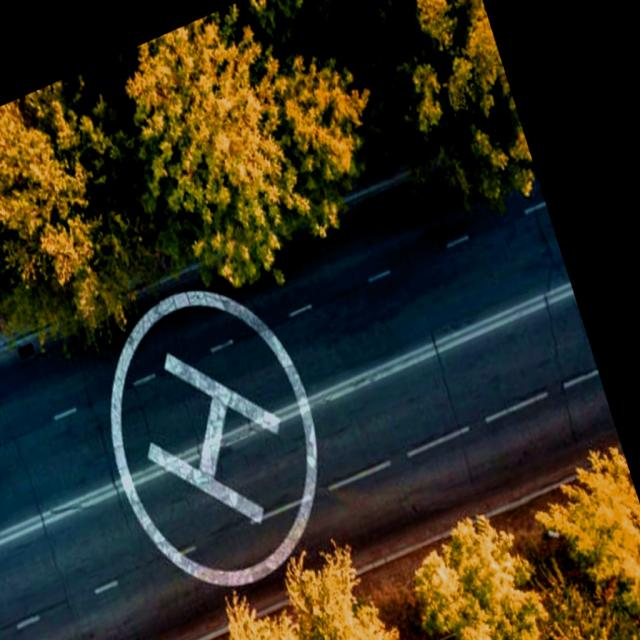helipad: (103, 284, 323, 593)
